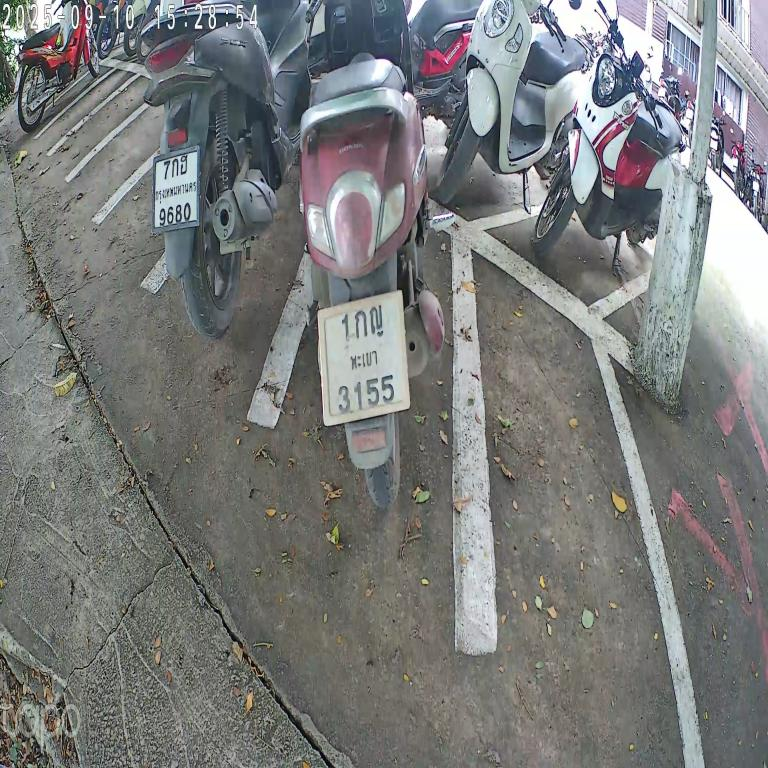license plate: (308, 280, 418, 436), (148, 140, 206, 238)
